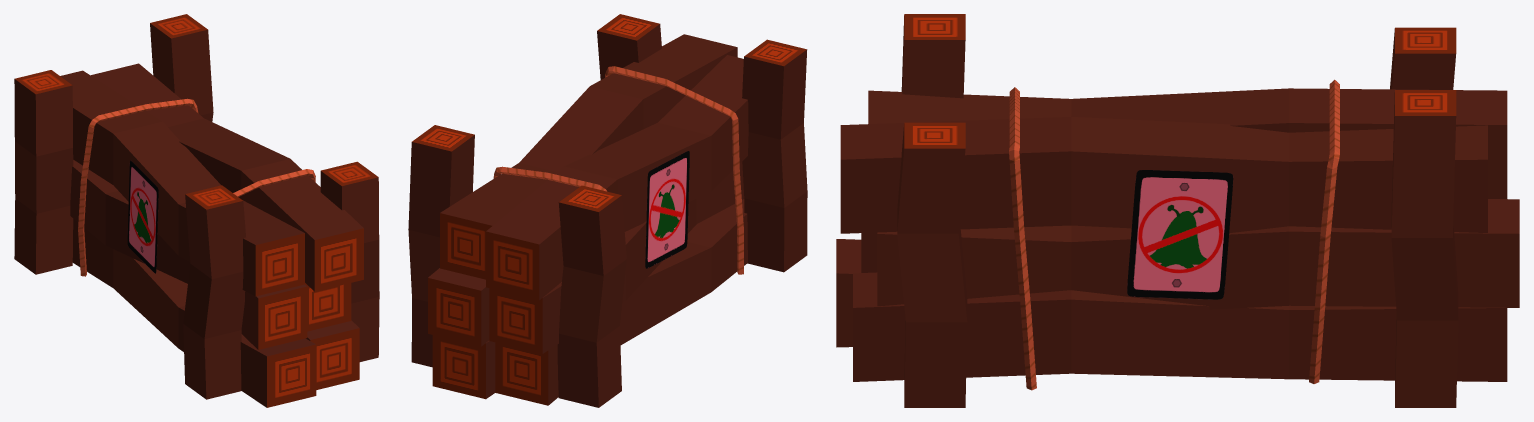
File: barricade_wood_invalid.obj
3 views of the same model, side by side, from view 1: azimuth 30°, elevation 25°; view 2: azimuth 150°, elevation 25°; view 3: azimuth 270°, elevation 25° (orthographic). The views are drawn at different scales.
Parts seen in each view (by area): view 1: Barricade_Cube.001; view 2: Barricade_Cube.001; view 3: Barricade_Cube.001.
Part boxes in pixels (x1,y1,x2,y2): Barricade_Cube.001: (14, 14, 379, 407); Barricade_Cube.001: (408, 14, 807, 407); Barricade_Cube.001: (836, 14, 1519, 407).
Bounding box in the file's own units: 4.11 × 4.47 × 9.48.
Materials: 1 (1 with a texture image).
